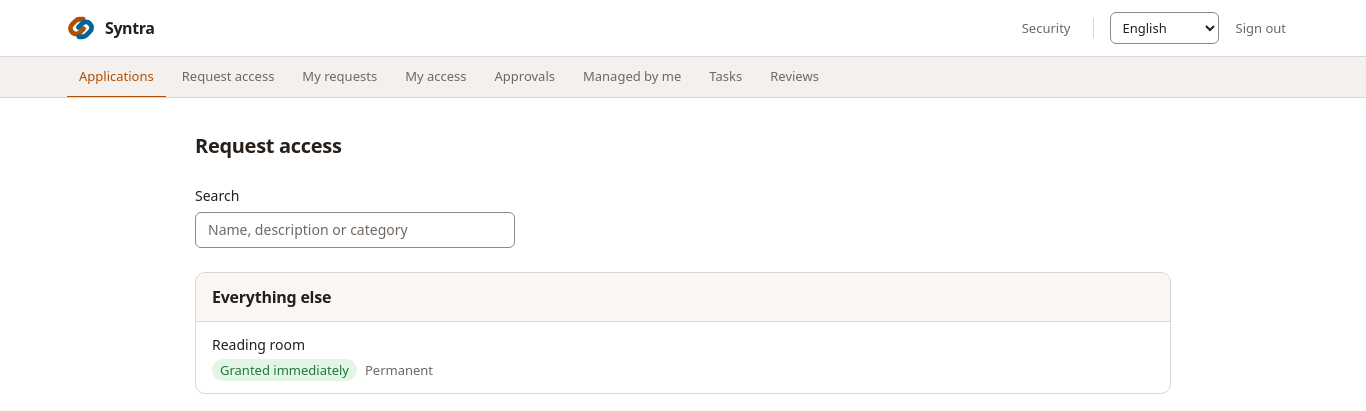
Test: CatalogPage › tells a search that matched nothing apart from an empty catalog, and undoes it
The image size is (1366, 411).
Check: the link "Reading room" is shown, box [212,335,305,354]
Type "zzz" into the search field labelled "Search" at (355, 230), box [195,212,515,248]
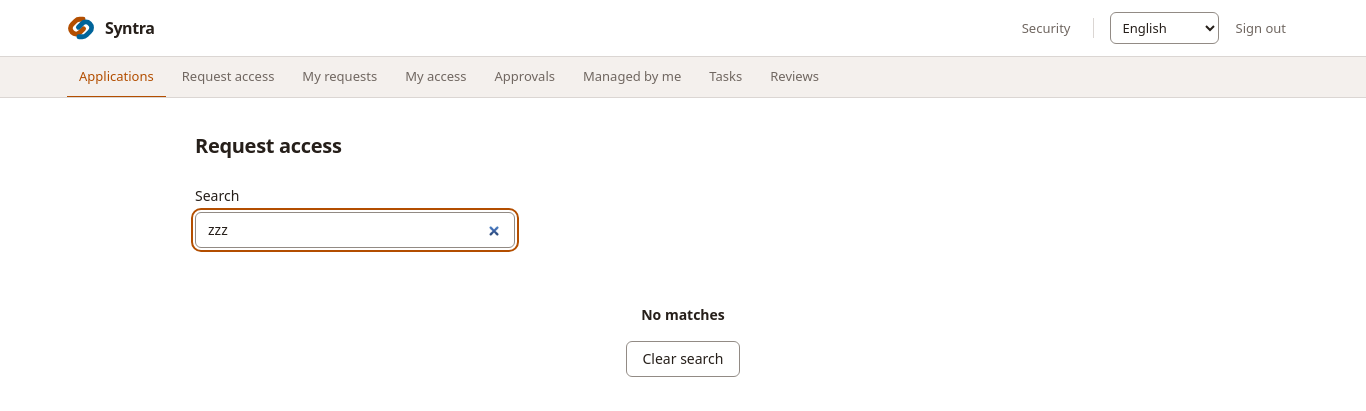
Check: the text "No matches" is shown, box [641,305,725,324]
Click the button "Clear search" at (683, 359), box [626,341,740,377]
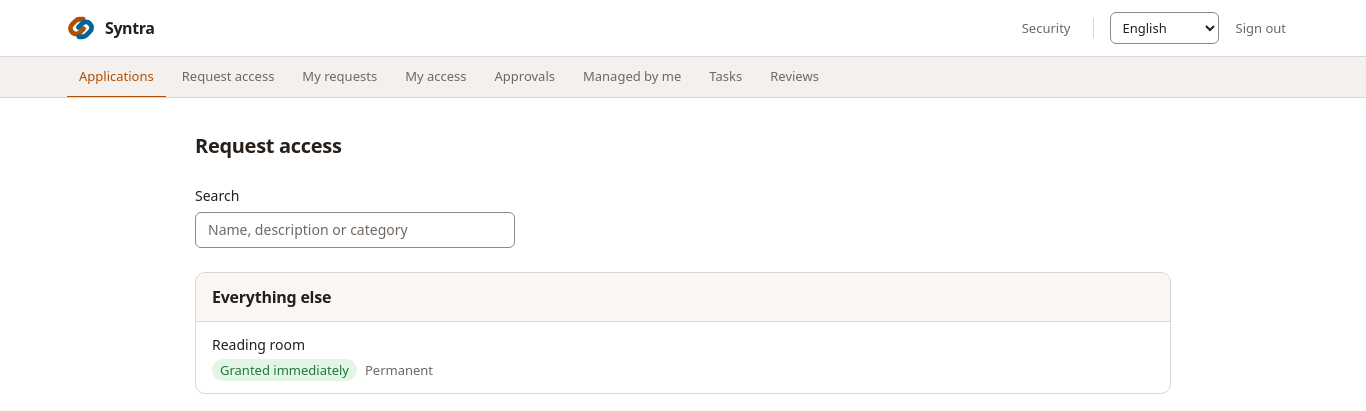
Check: the link "Reading room" is shown, box [212,335,305,354]
